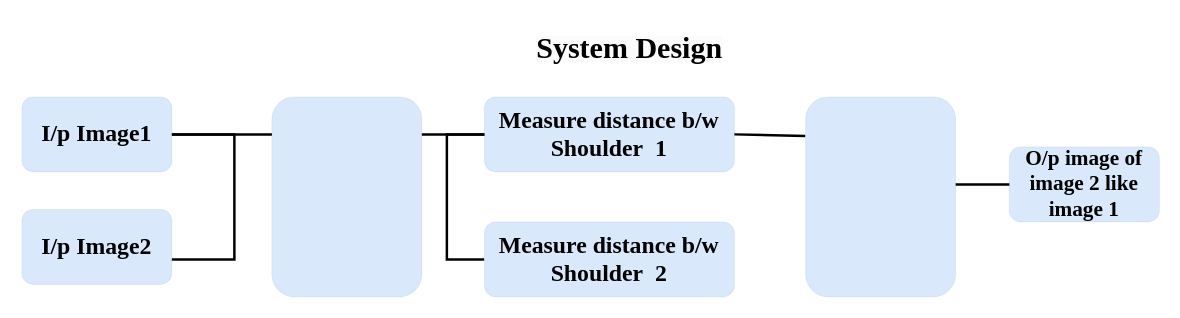
Image size: 1180x318. Some labels were removed from this diagram. The centre of each missing label's shape, as x and y in pixels:
Key-point Detection to Detect Shoulders: point (346, 196)
Seam Carving Algorithm to remove extra pixels: point (880, 196)
